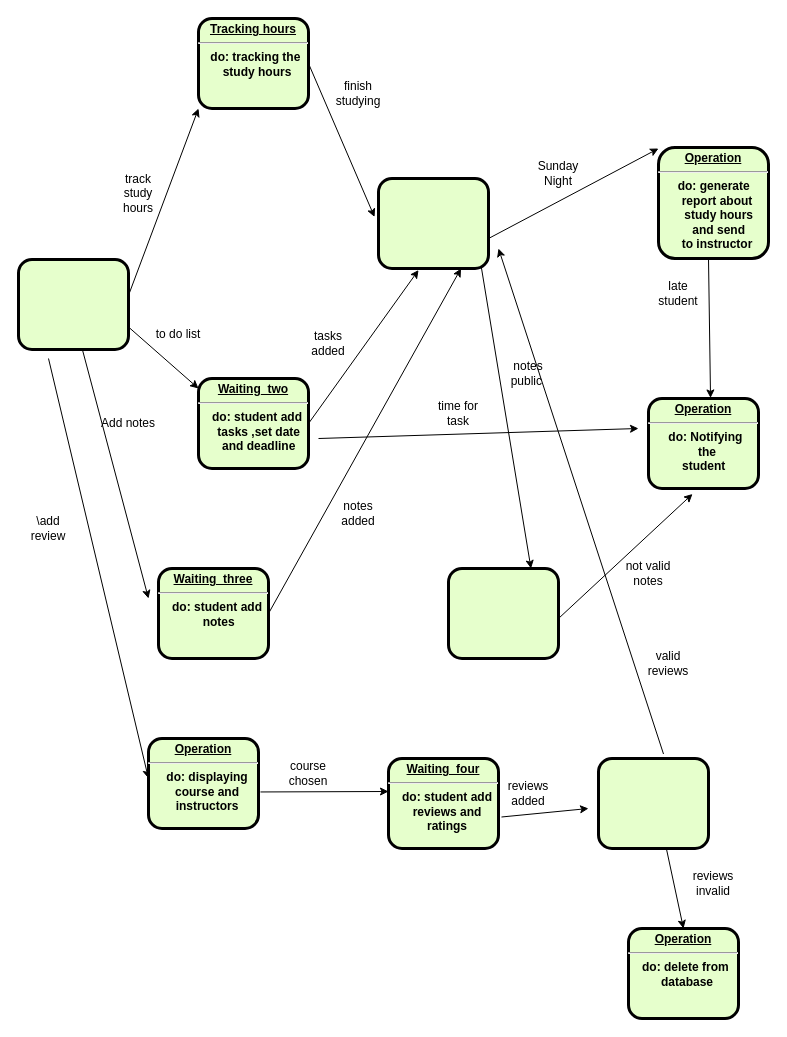
Some shapes in this 787 by 1037 pixel diagram are drawn without their labels. The box of each missing label's shape, as (x1, y1, x2, y2) in pixels:
Operation do: saving data database: (376, 176, 490, 270)
Operation do: send notes to instructor: (446, 566, 560, 660)
Operation do: send reviews to admin: (596, 756, 710, 850)
Waiting_one do: displaying se r vices by the VLA in homepage: (16, 258, 130, 350)
